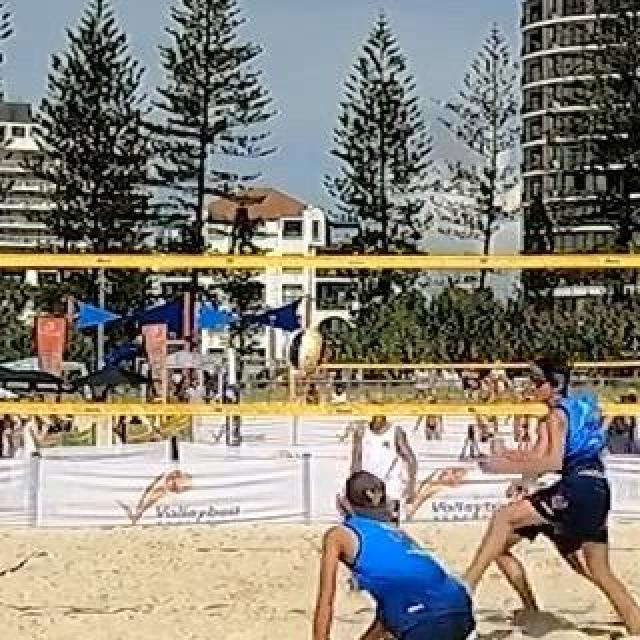volleyball: (285, 328, 329, 372)
